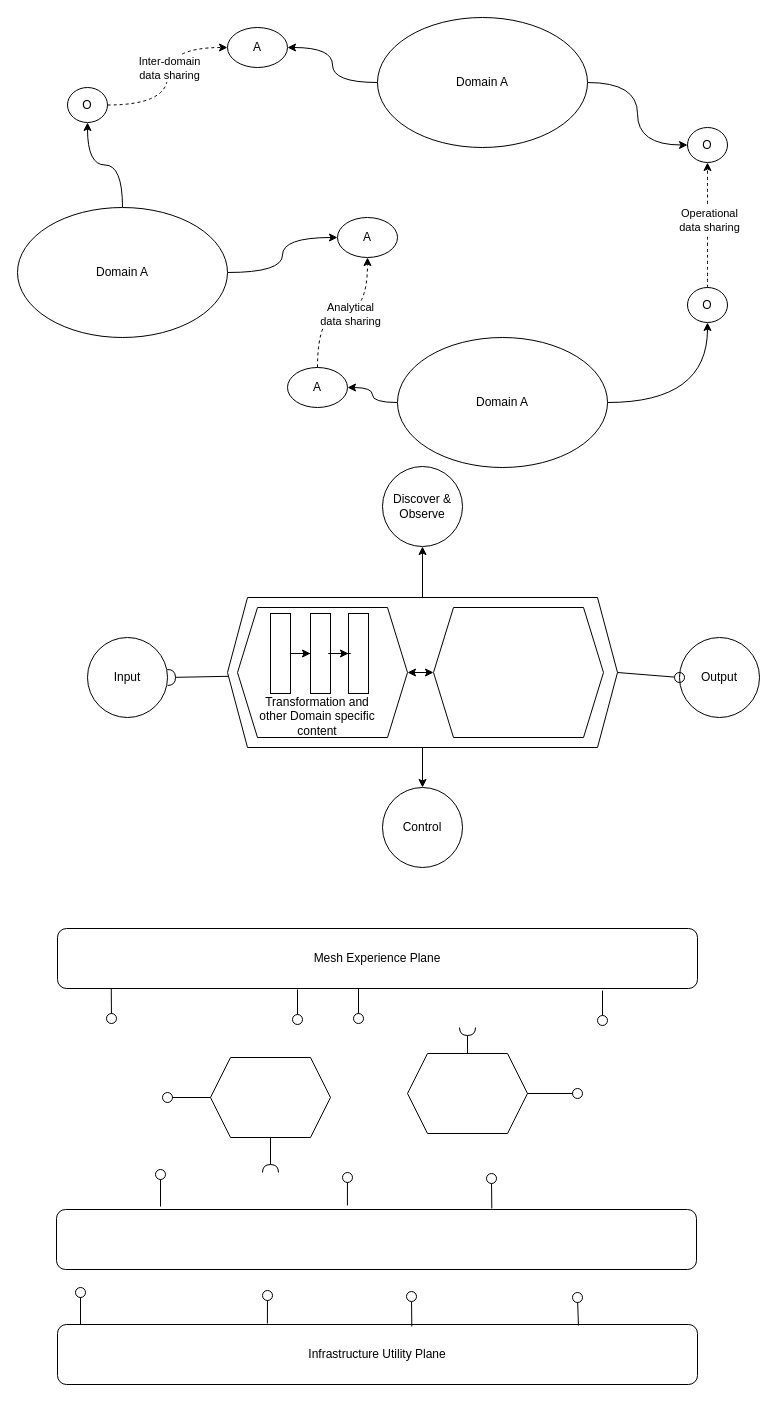
This 777x1402 diagram has some shape labels left out. The shapes that lost their labels are listed below. From the top down, each one's box as (x1, y1, x2, y2) in pixels, then its label:
(432, 606, 604, 738): Side Car Domain Agnostic
(56, 1208, 696, 1270): Data Product Experience Plane
